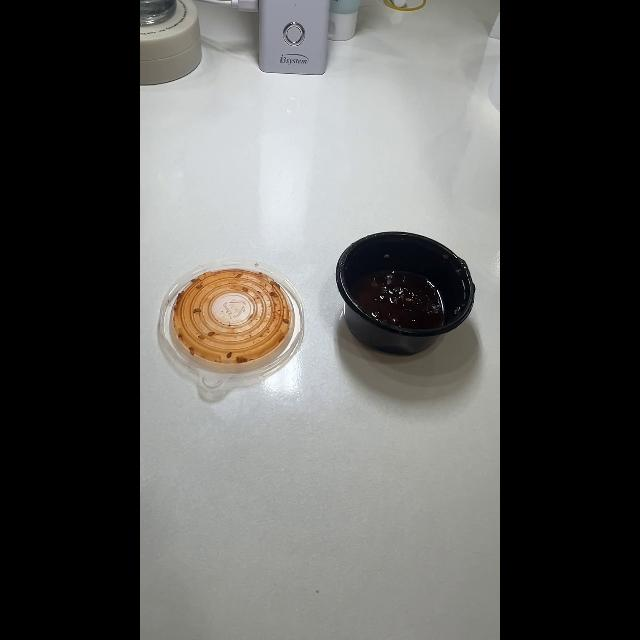dirty: (330, 230, 492, 352), (169, 266, 305, 396)
